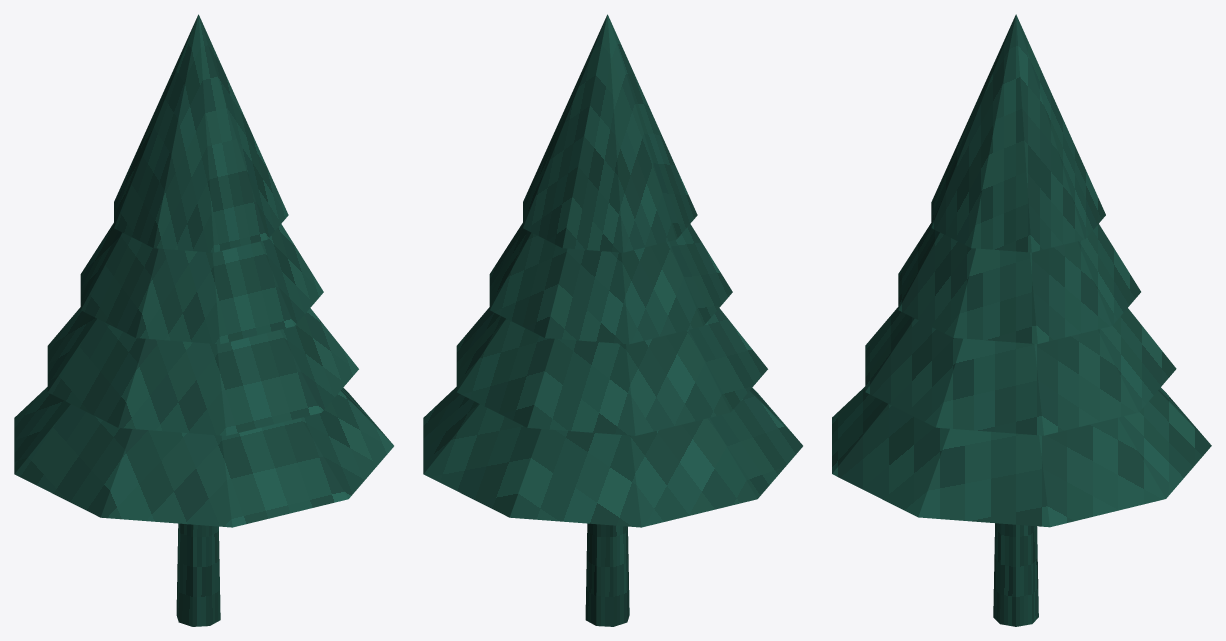
The model's file is pine_53.glb.
The picture shows the model from 3 angles, left to right: view 1: azimuth 30°, elevation 25°; view 2: azimuth 150°, elevation 25°; view 3: azimuth 270°, elevation 25°; orthographic projection.
Parts seen in each view (by area): view 1: Needles, Needles.001, Needles.003, Needles.002, Trunk; view 2: Needles, Needles.001, Needles.003, Needles.002, Trunk; view 3: Needles, Needles.001, Needles.003, Needles.002, Trunk.
Part boxes in pixels (x1,y1,x2,y2): Needles: (14,387,393,527); Needles.001: (47,307,358,435); Needles.003: (114,14,288,252); Needles.002: (80,223,323,344); Trunk: (176,523,220,626); Needles: (423,387,802,527); Needles.001: (456,307,767,435); Needles.003: (523,14,697,252); Needles.002: (489,223,732,344); Trunk: (585,523,629,626); Needles: (832,386,1211,527); Needles.001: (865,307,1176,435); Needles.003: (931,14,1105,252); Needles.002: (898,223,1140,343); Trunk: (993,523,1038,626).
Bounding box in the file's own units: 3.38 × 5.84 × 3.33.
Materials: 1 (1 with a texture image).
